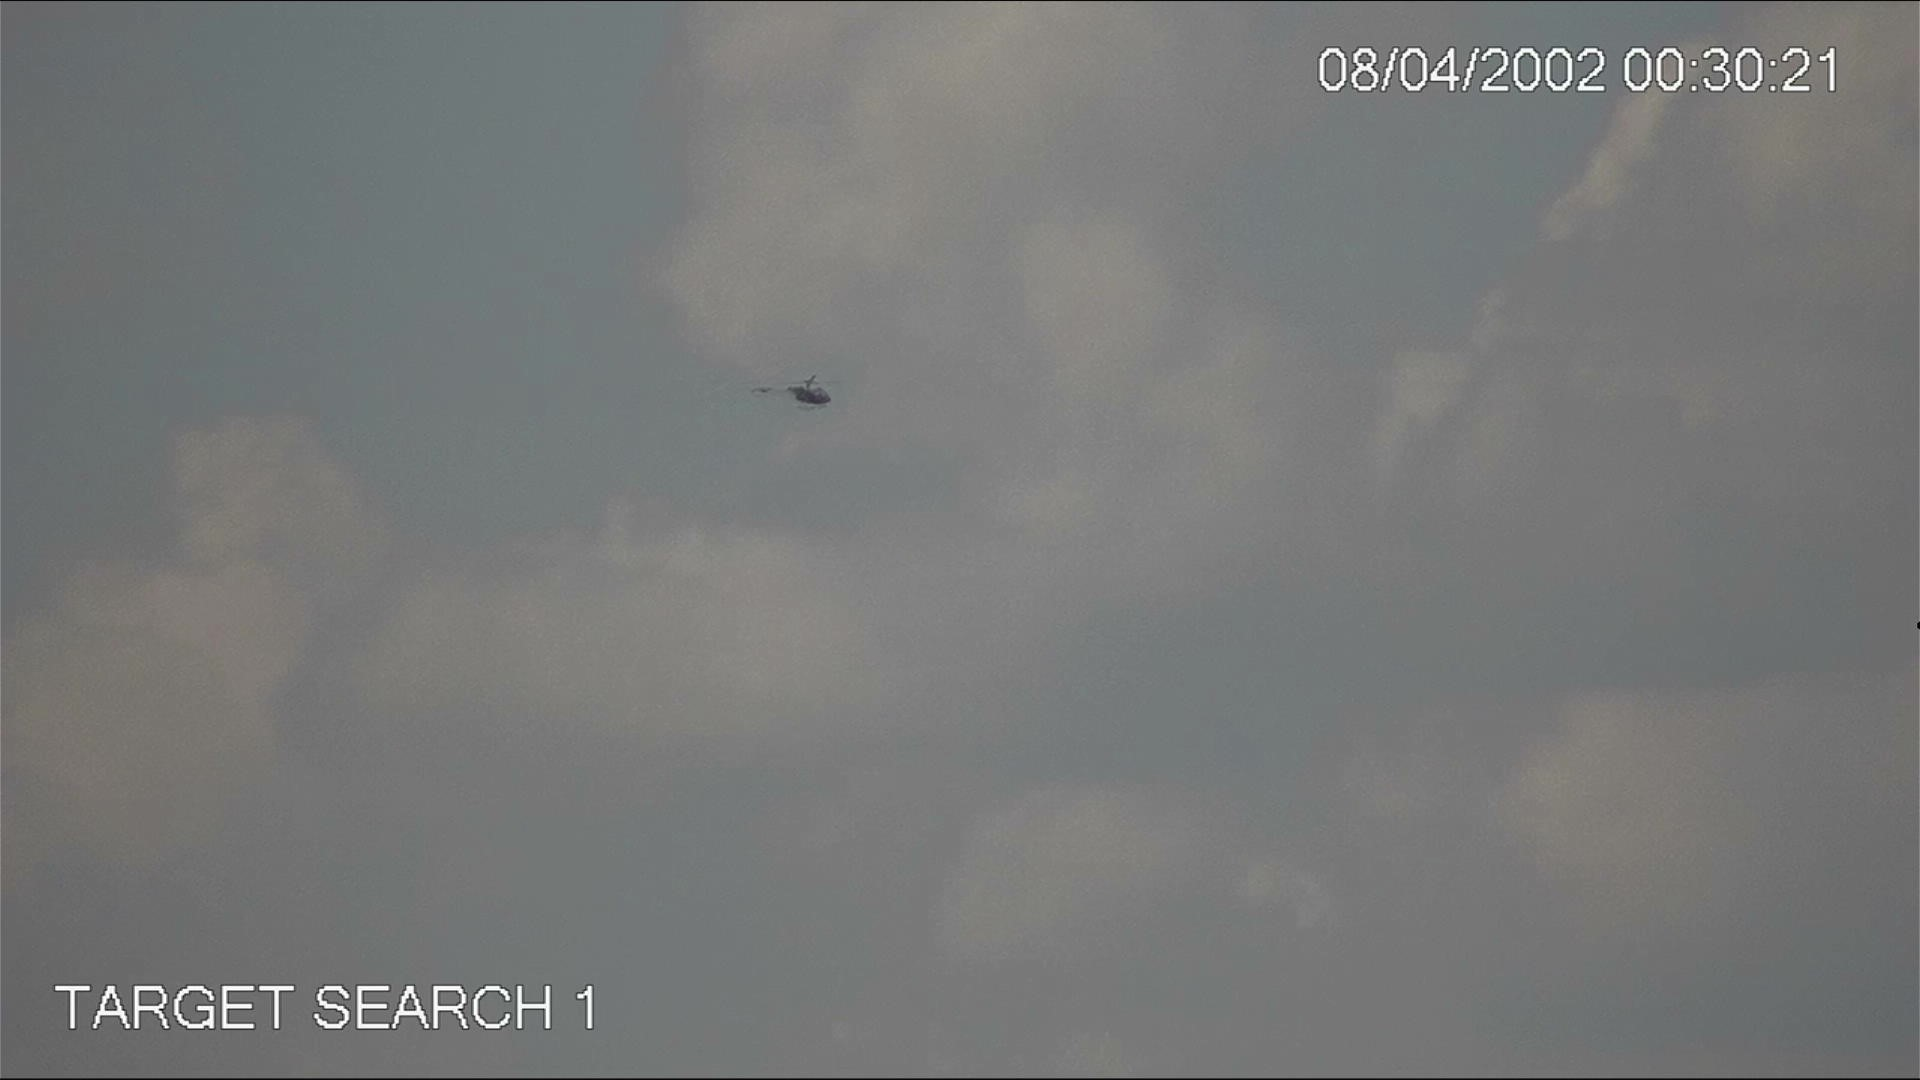SU_30: (748, 373, 837, 410)
